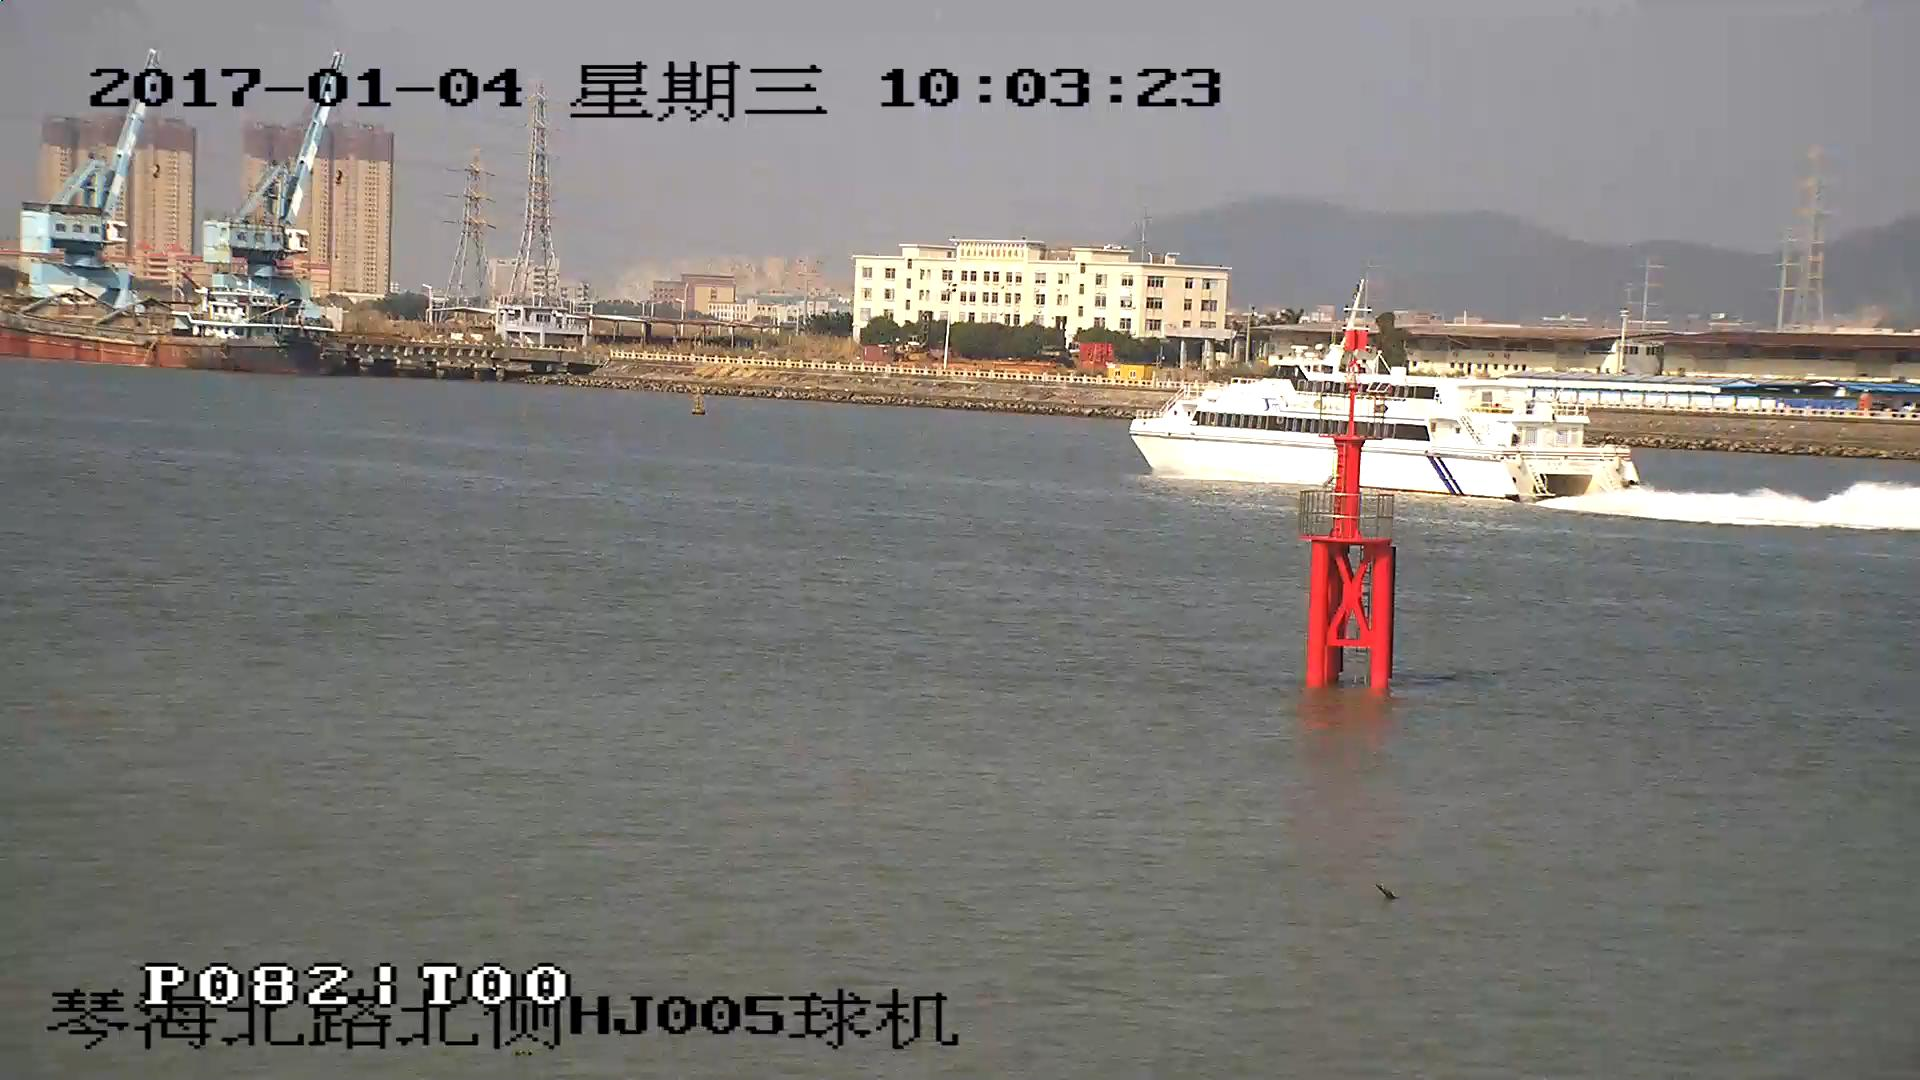passenger ship: (1132, 278, 1642, 508)
